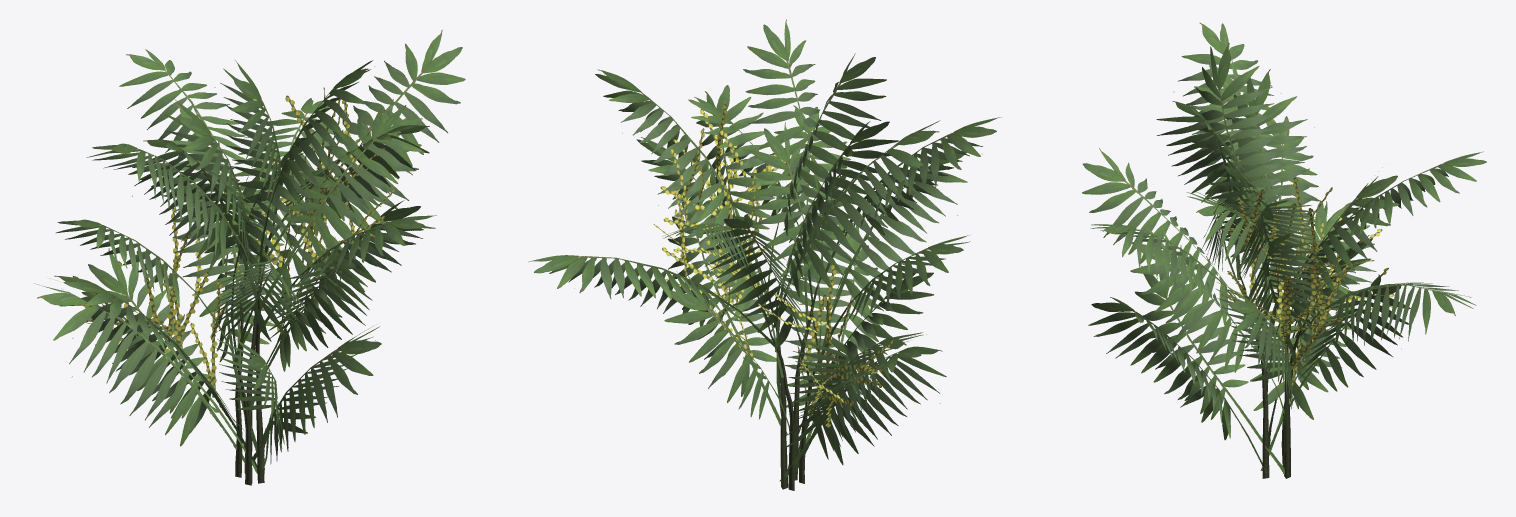
File: Chamaedorea_Elegans_Autumn_Young.glb
The picture shows the model from 3 angles, left to right: view 1: azimuth 30°, elevation 25°; view 2: azimuth 150°, elevation 25°; view 3: azimuth 270°, elevation 25°; orthographic projection. The views are drawn at different scales.
Visible parts, largest first — view 1: Chamaedorea_Elegans_Autumn_Young__LOD3; view 2: Chamaedorea_Elegans_Autumn_Young__LOD3; view 3: Chamaedorea_Elegans_Autumn_Young__LOD3.
Part boxes in pixels (left/top/right/bottom): Chamaedorea_Elegans_Autumn_Young__LOD3: left=34, top=29, right=465, bottom=485; Chamaedorea_Elegans_Autumn_Young__LOD3: left=528, top=19, right=1001, bottom=490; Chamaedorea_Elegans_Autumn_Young__LOD3: left=1082, top=22, right=1486, bottom=478.
Size of the model in its own units: 1.73 by 1.66 by 1.6.
3 materials, 3 textured.
